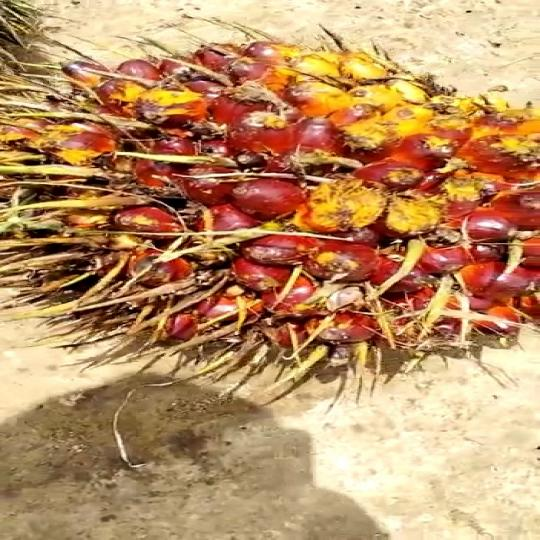masak: (0, 31, 540, 400)
